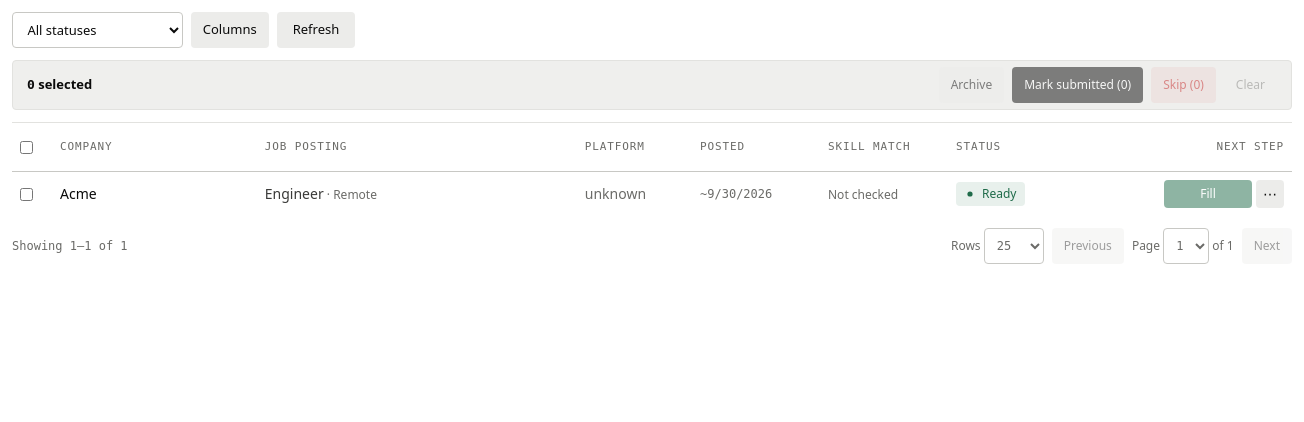
Scenario: ApplicationsTable housekeeping while a task runs elsewhere (review #14) › turns them off on the row the task holds, and says why
Click the button named "More actions for Acme Engineer".
click(1270, 194)  # box [1256,180,1284,208]
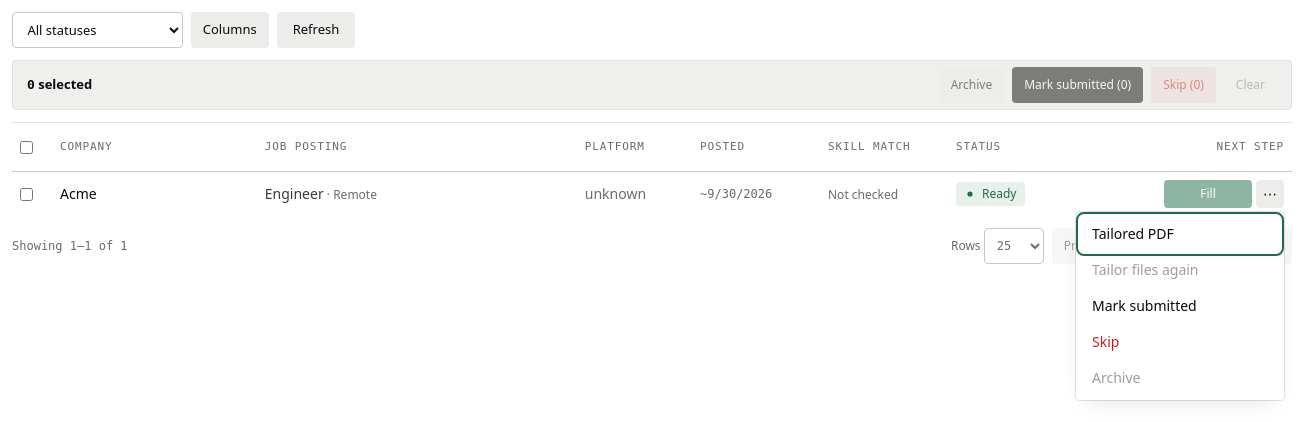
Expected: the menu item "Archive" is disabled, [1080,360,1280,396]
